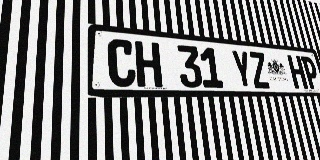1: (198, 47, 224, 88)
3: (177, 45, 203, 88)
C: (107, 38, 136, 87)
H: (135, 41, 163, 87), (287, 55, 308, 89)
P: (300, 56, 320, 89)
Y: (230, 50, 254, 88)
Z: (248, 51, 271, 88)
